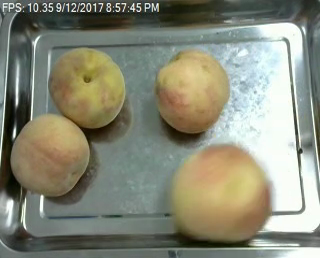Peach: (173, 143, 271, 242), (9, 112, 90, 197), (154, 47, 229, 134), (48, 46, 125, 129)
